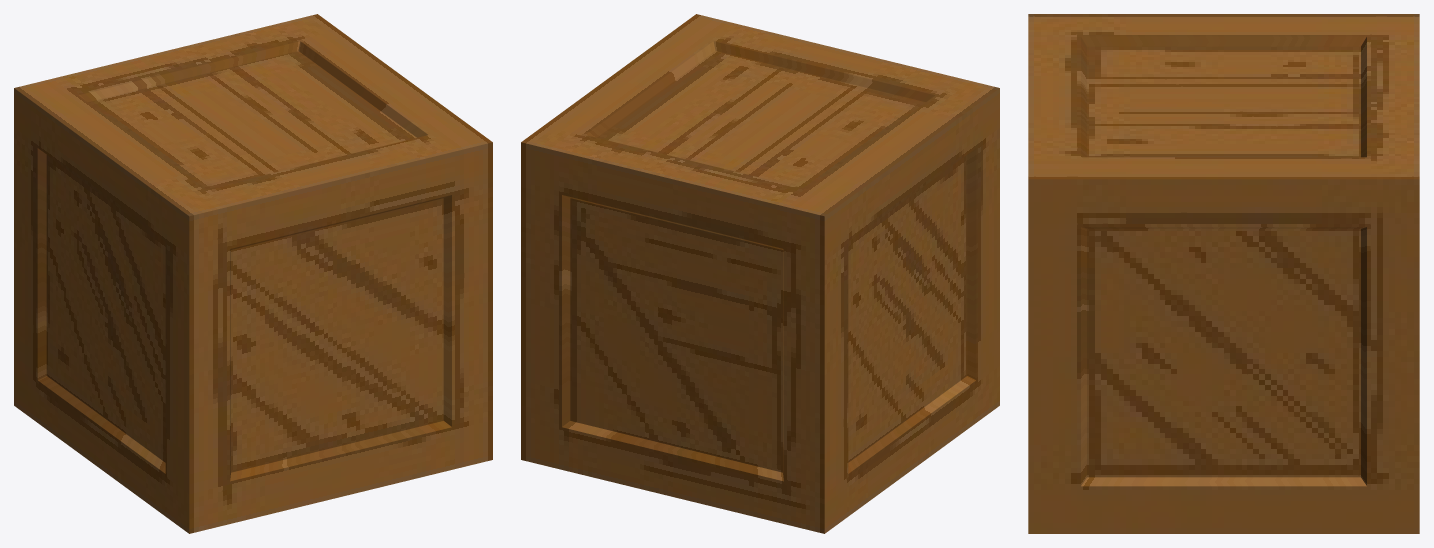
File: crate.glb
The picture shows the model from 3 angles, left to right: view 1: azimuth 30°, elevation 25°; view 2: azimuth 150°, elevation 25°; view 3: azimuth 270°, elevation 25°; orthographic projection. The views are drawn at different scales.
Visible parts, largest first — view 1: crate; view 2: crate; view 3: crate.
Part boxes in pixels (x1,y1,x2,y2): crate: [14, 14, 492, 533]; crate: [521, 14, 999, 533]; crate: [1028, 14, 1419, 533].
Size of the model in its own units: 1 by 1 by 1.
Materials: 1 (1 with a texture image).
